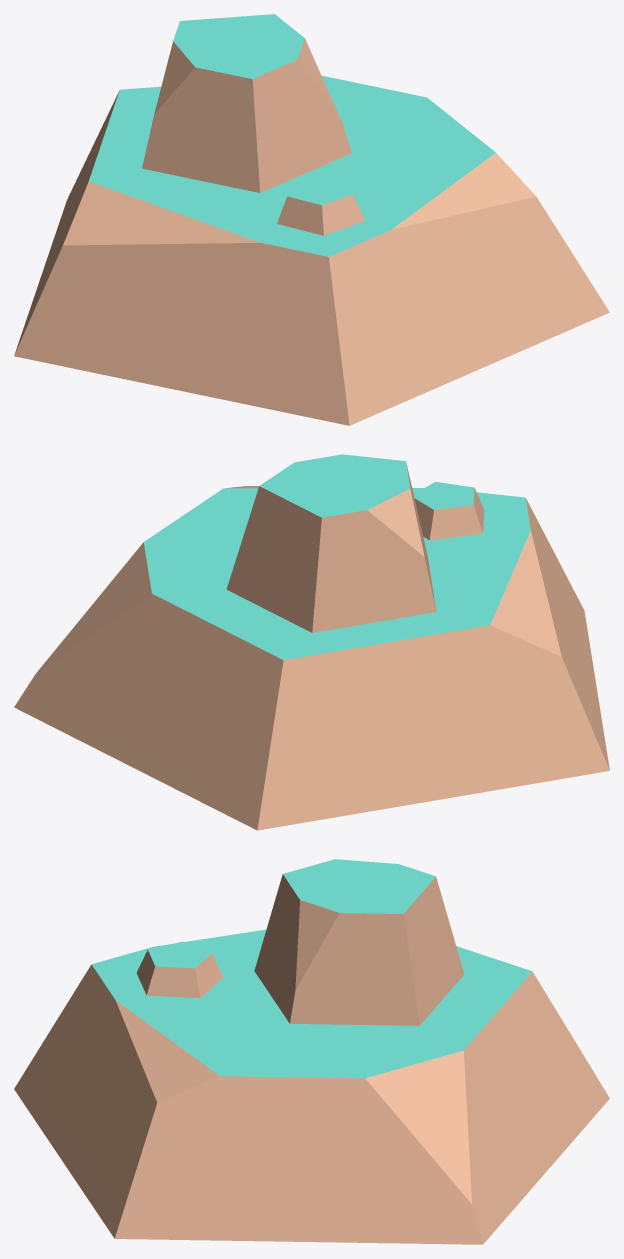
The model's file is rock_smallTopB.glb.
3 views of the same model, one above another, from view 1: azimuth 30°, elevation 25°; view 2: azimuth 150°, elevation 25°; view 3: azimuth 270°, elevation 25° (orthographic). The views are drawn at different scales.
Parts seen in each view (by area): view 1: rock_smallTopB; view 2: rock_smallTopB; view 3: rock_smallTopB.
Boxes of the visible parts, <box> form: rock_smallTopB: <box>14,14,609,425</box>; rock_smallTopB: <box>14,454,609,830</box>; rock_smallTopB: <box>14,859,609,1244</box>.
Bounding box in the file's own units: 0.6222 × 0.28 × 0.6463.
